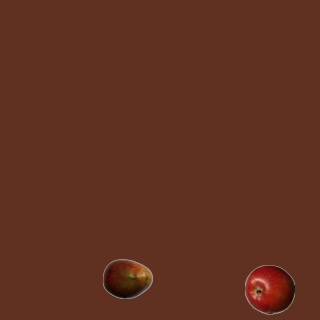Apple Braeburn: (244, 264, 294, 314)
Mango Red: (102, 253, 152, 303)
